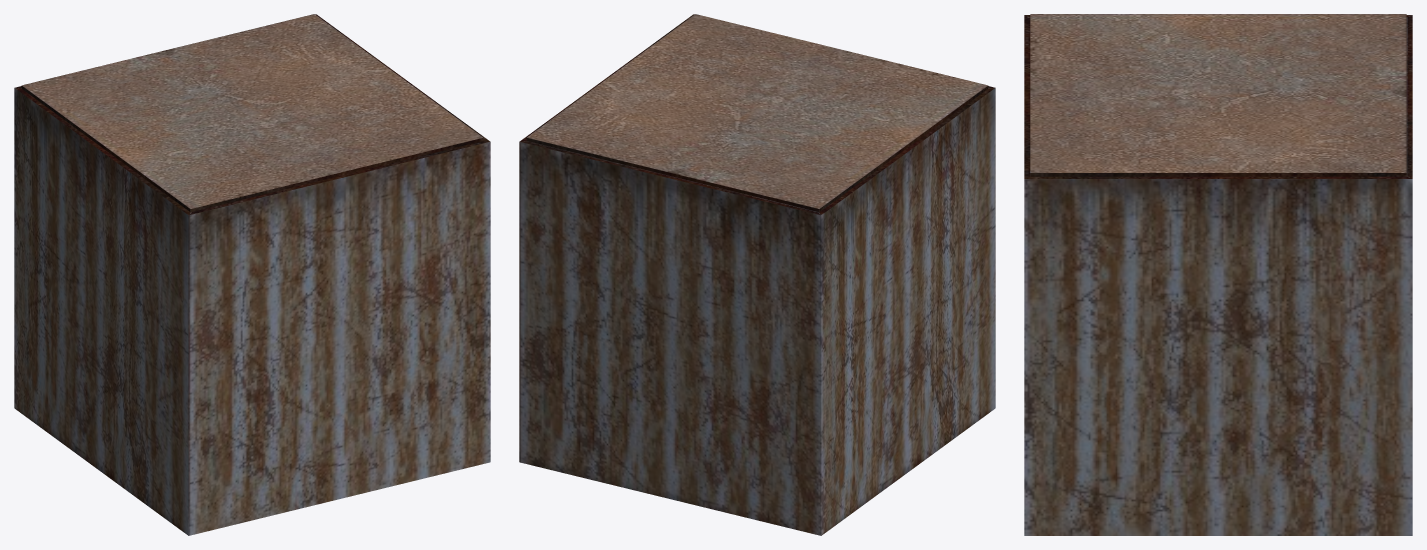
The model's file is metal_foundation_square_high_textured.glb.
3 renders of one model, left to right at view 1: azimuth 30°, elevation 25°; view 2: azimuth 150°, elevation 25°; view 3: azimuth 270°, elevation 25°, orthographic. The views are drawn at different scales.
Parts seen in each view (by area): view 1: Cube; view 2: Cube; view 3: Cube.
Part boxes in pixels (x1=…): Cube: x1=14, y1=14, x2=490, y2=535; Cube: x1=519, y1=14, x2=995, y2=535; Cube: x1=1024, y1=14, x2=1412, y2=535.
Size of the model in its own units: 2 by 2.05 by 2.
1 material, 1 textured.
